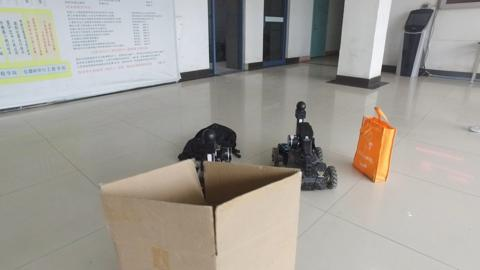bag: (352, 105, 395, 183)
chariot: (270, 99, 338, 191)
